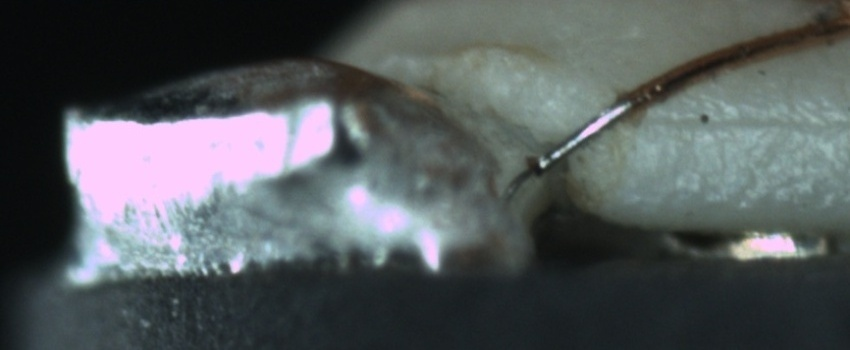DL: (639, 91, 848, 154)
TS: (532, 99, 639, 174)
TTCW: (534, 73, 666, 170)
